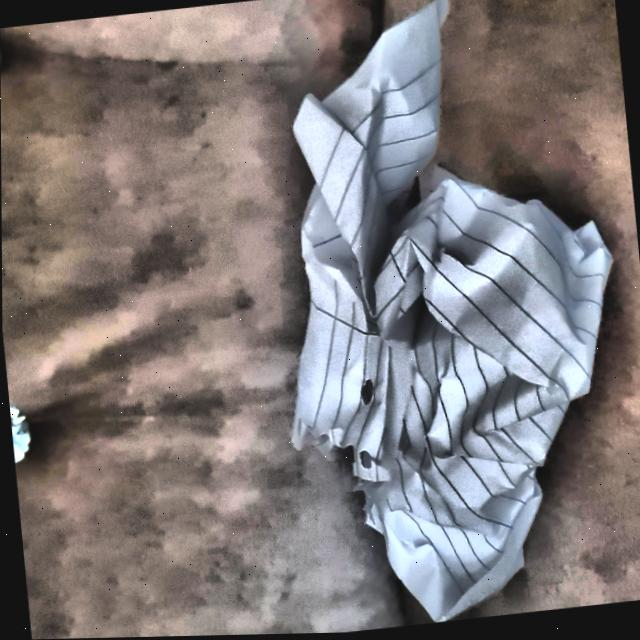paper: (244, 0, 640, 636)
